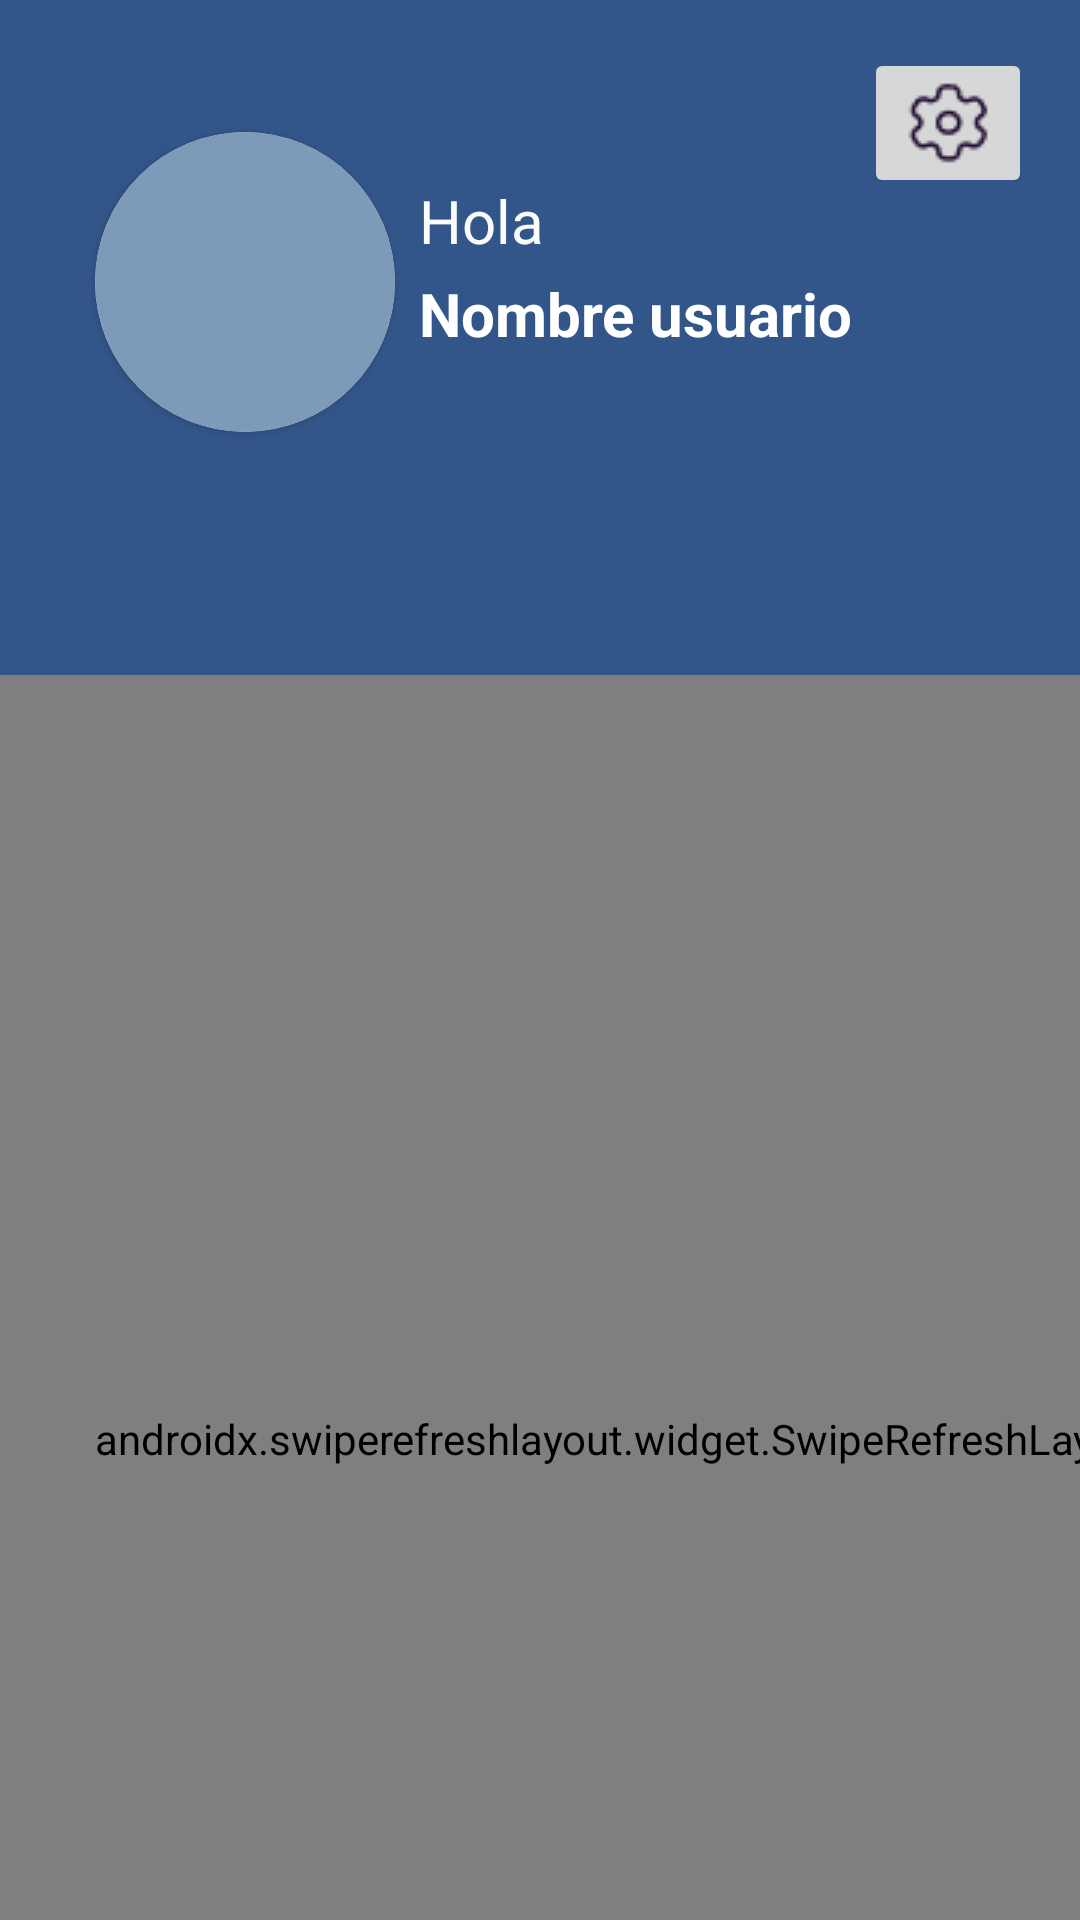

Named icons in this screenshot (1080x1920) and their bounding boxes, (x1, y1, x2, y2):
setting: (876, 66, 1020, 180)
